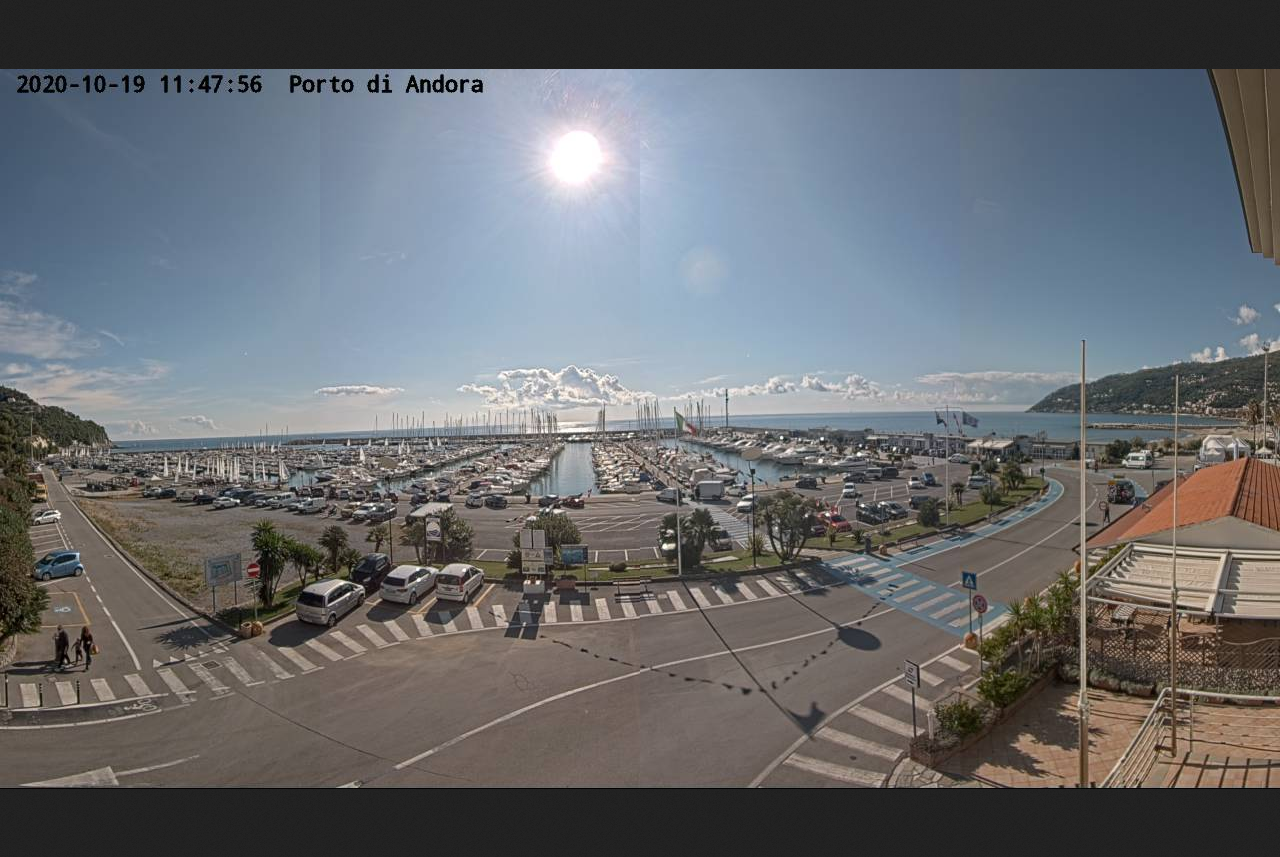maybe: (673, 409, 702, 437), (962, 414, 981, 429), (928, 412, 947, 425)
